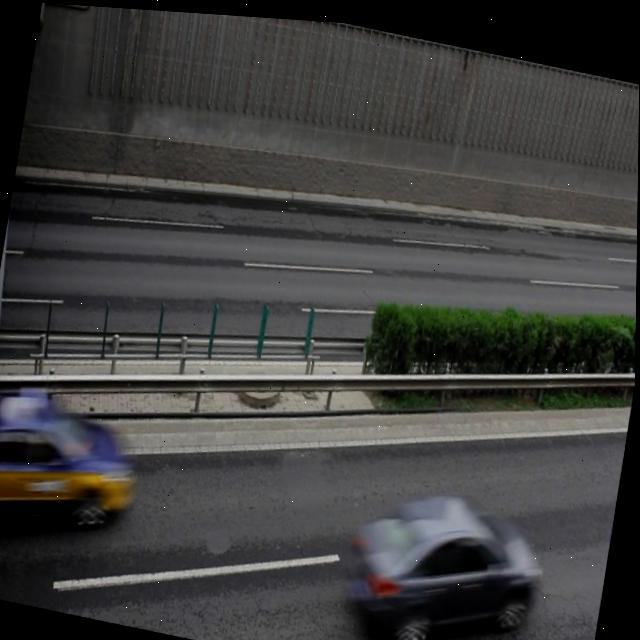car: (344, 470, 543, 640), (0, 390, 140, 547)
